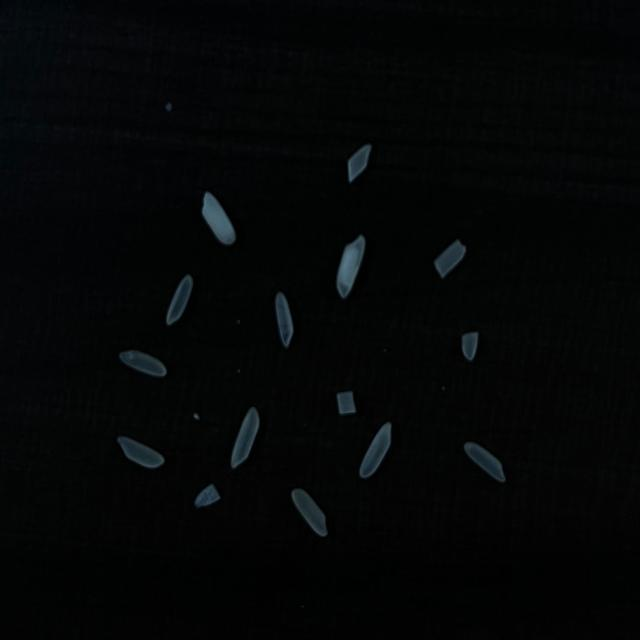Broken: (434, 239, 466, 278), (348, 144, 372, 183), (194, 483, 220, 508), (462, 331, 478, 361), (337, 391, 357, 414)
Full: (336, 235, 366, 298), (202, 192, 237, 245), (359, 422, 392, 478), (291, 488, 328, 537), (231, 408, 259, 468), (464, 442, 506, 482), (117, 436, 164, 469), (120, 349, 168, 377), (166, 276, 193, 325), (276, 293, 294, 347)
